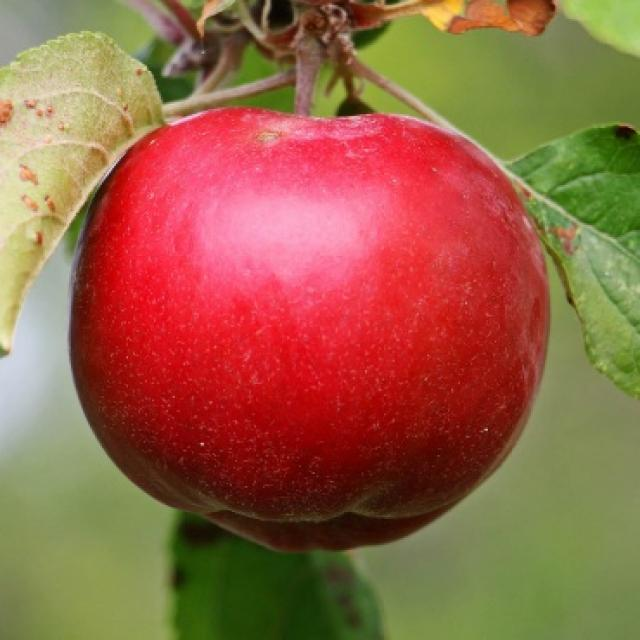Apple: (65, 95, 554, 548)
